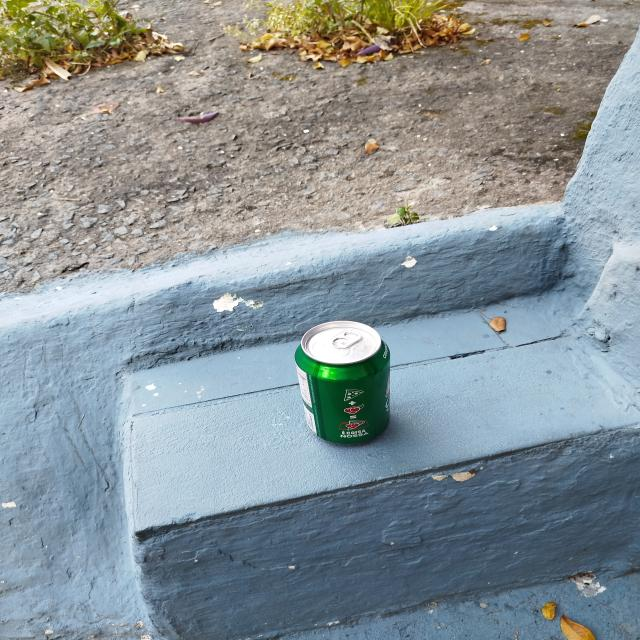Guarana: (296, 320, 392, 444)
